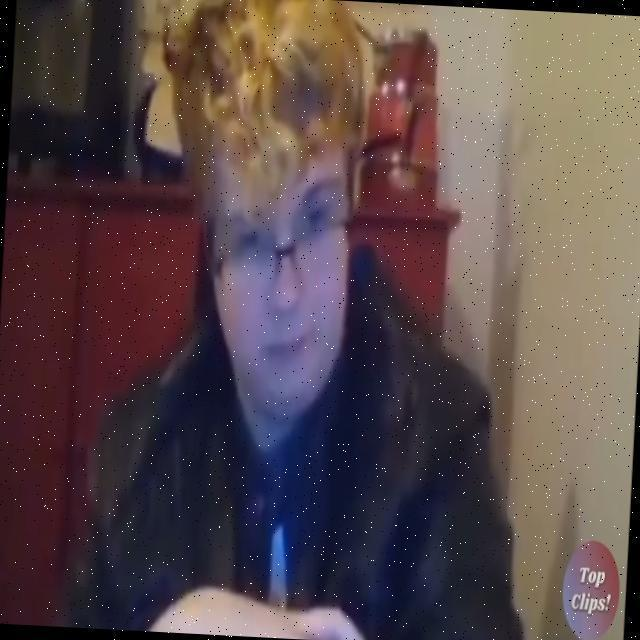person: (74, 0, 554, 640)
